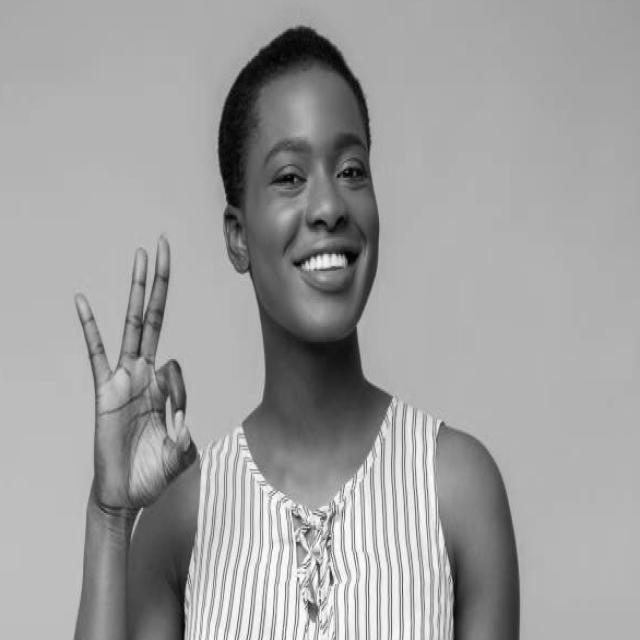perfect: (71, 228, 202, 525)
